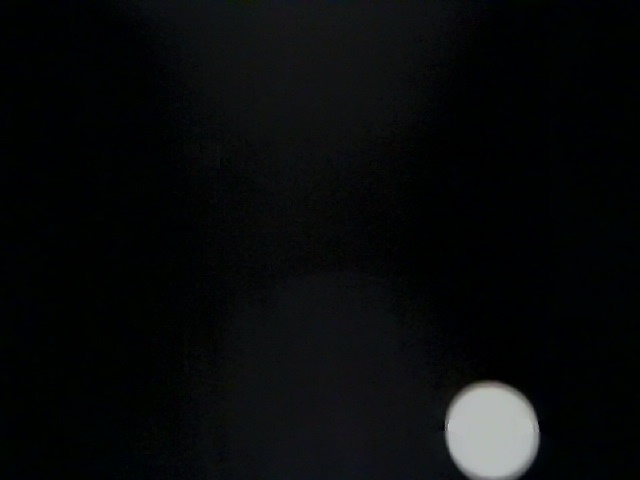YHLJ: (446, 18, 543, 115)
